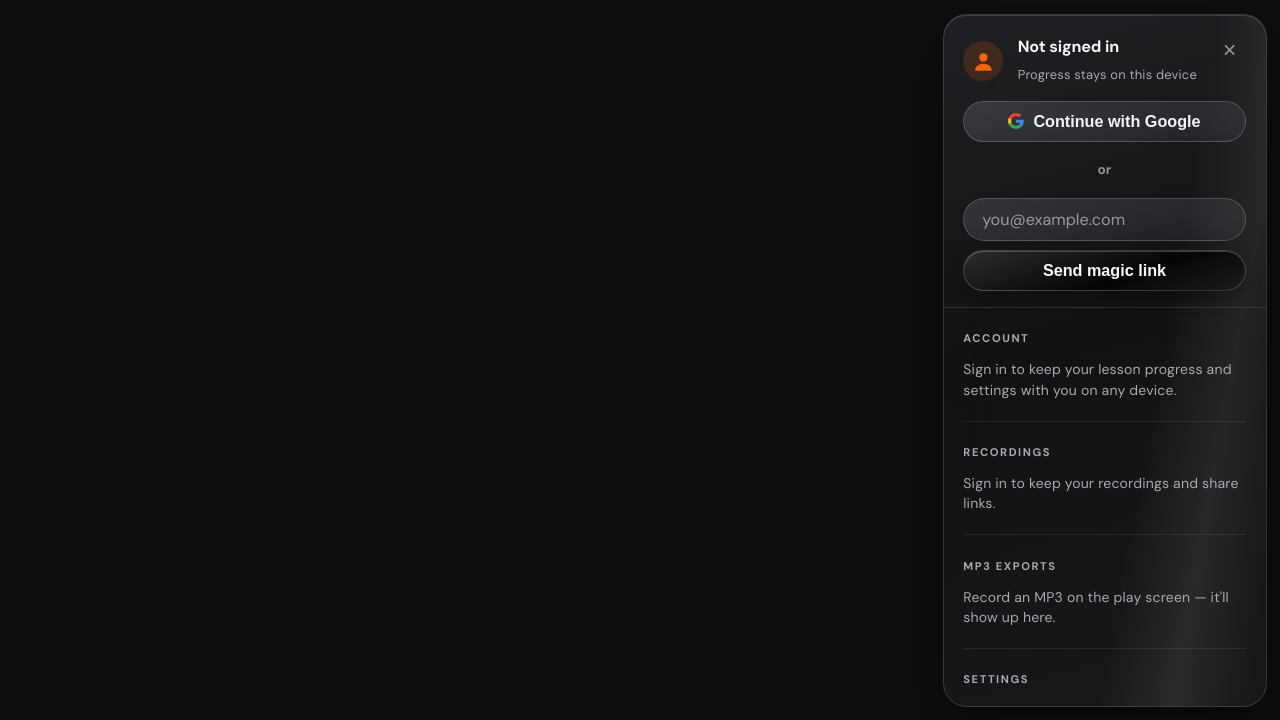
Test case: ProfileSidebar — email magic-link sign-in › sends a magic link and shows the sent confirmation
Type "lela@example.com" into the field named "email address".
click(1104, 220); type("lela@example.com")  # box [963,198,1246,241]
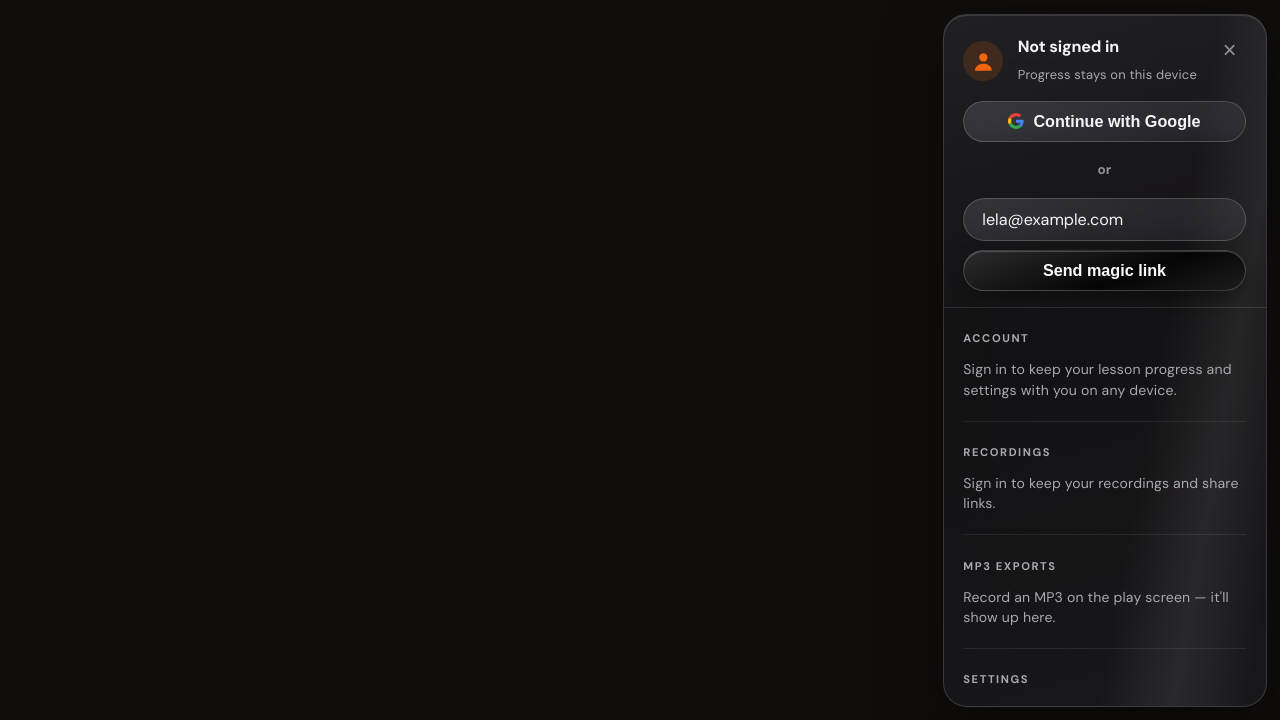
Click the button "Send magic link".
click(1104, 270)  # box [963,250,1246,291]
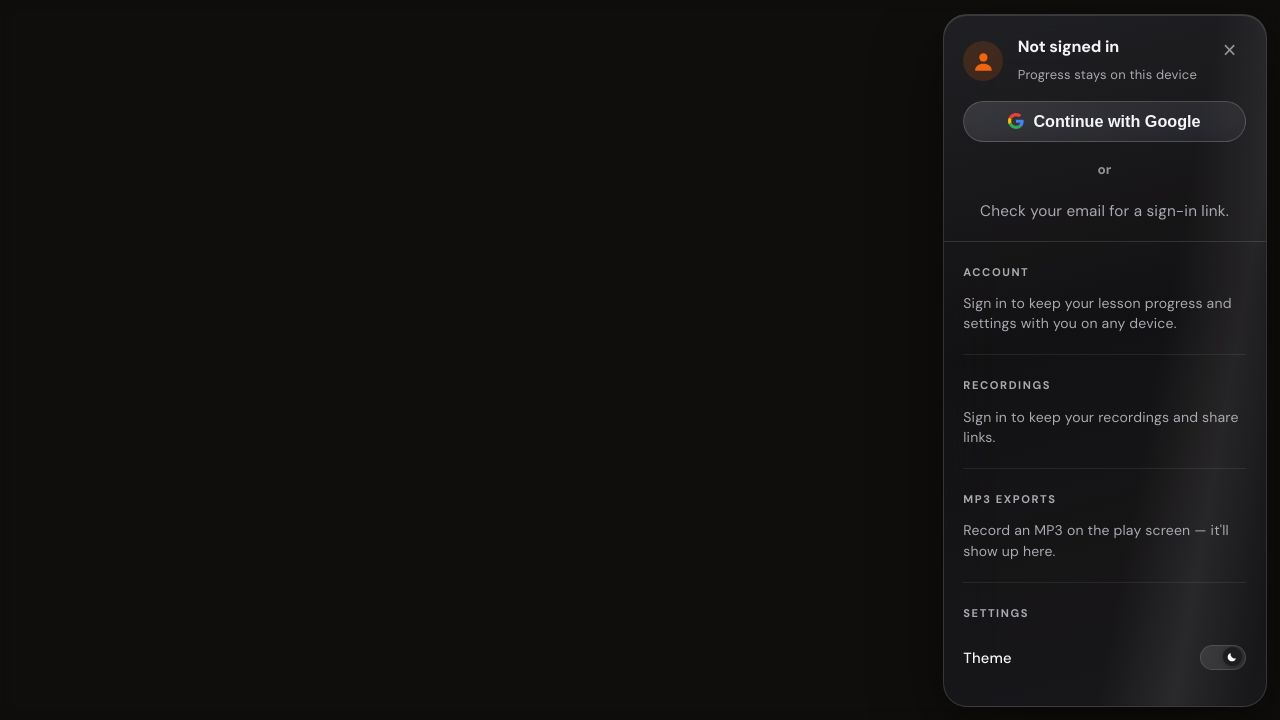
Result: the text "Check your email for a sign-in link." is shown at [963,198,1246,224]
